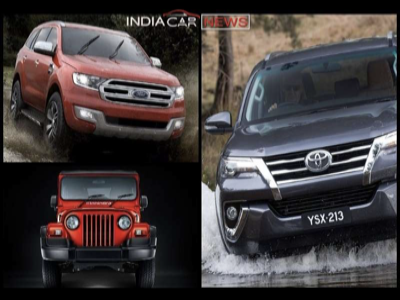licence: (306, 211, 351, 230)
